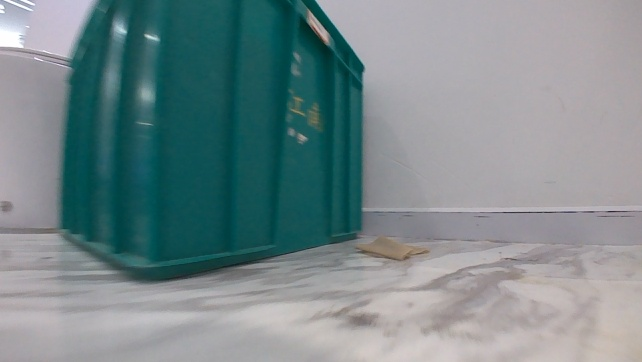socks: (356, 235, 430, 263)
toilet: (0, 45, 77, 236)
